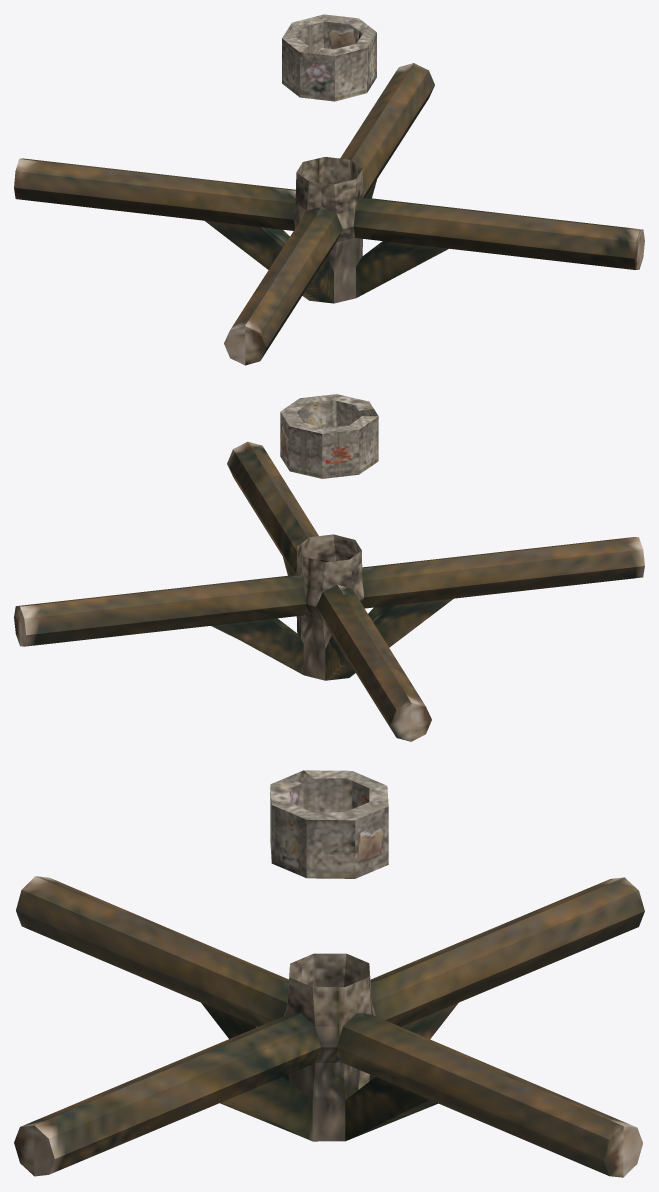
The model's file is m_reel_1_spinpart.fbx.
3 views of the same model, one above another, from view 1: azimuth 30°, elevation 25°; view 2: azimuth 150°, elevation 25°; view 3: azimuth 270°, elevation 25° (orthographic). The views are drawn at different scales.
Parts seen in each view (by area): view 1: f_spin, f_spin_stone; view 2: f_spin, f_spin_stone; view 3: f_spin, f_spin_stone.
Boxes of the visible parts, x1,y1,x2,y2 form: f_spin: (14,63,644,365); f_spin_stone: (282,14,376,101); f_spin: (14,441,644,741); f_spin_stone: (280,394,378,478); f_spin: (14,876,644,1177); f_spin_stone: (270,770,388,878).
Size of the model in its own units: 541 by 311 by 540.
